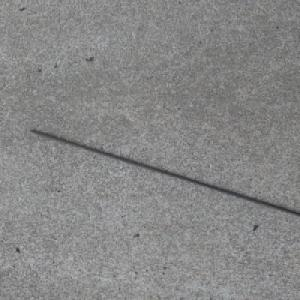LuggagePart: (29, 129, 300, 217)
